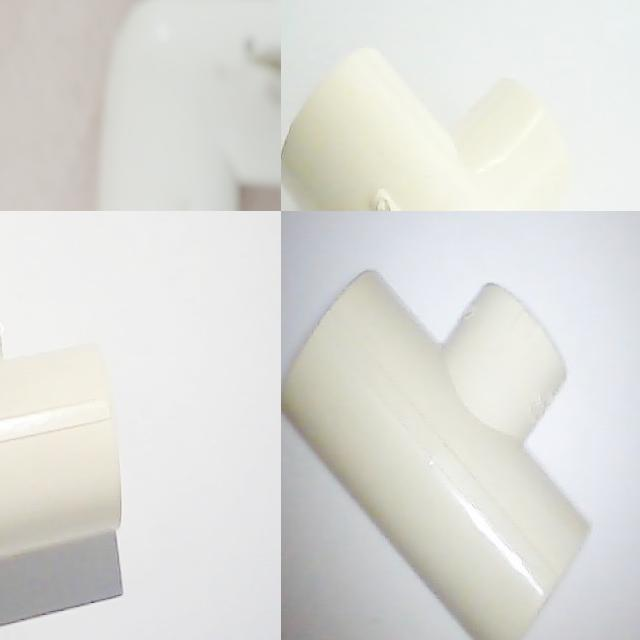L Joint: (0, 0, 226, 211)
T Joint: (281, 270, 593, 640), (281, 48, 572, 211), (0, 319, 121, 563)
